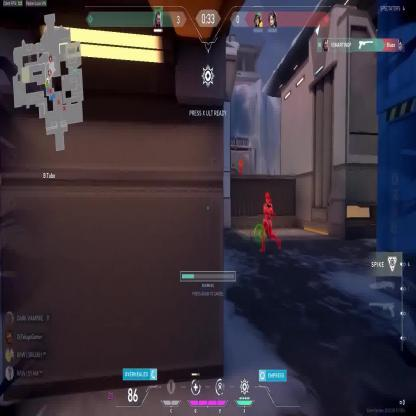enemy: (258, 190, 281, 254), (238, 156, 244, 178)
enemy_head: (265, 192, 271, 204), (240, 157, 242, 161)
